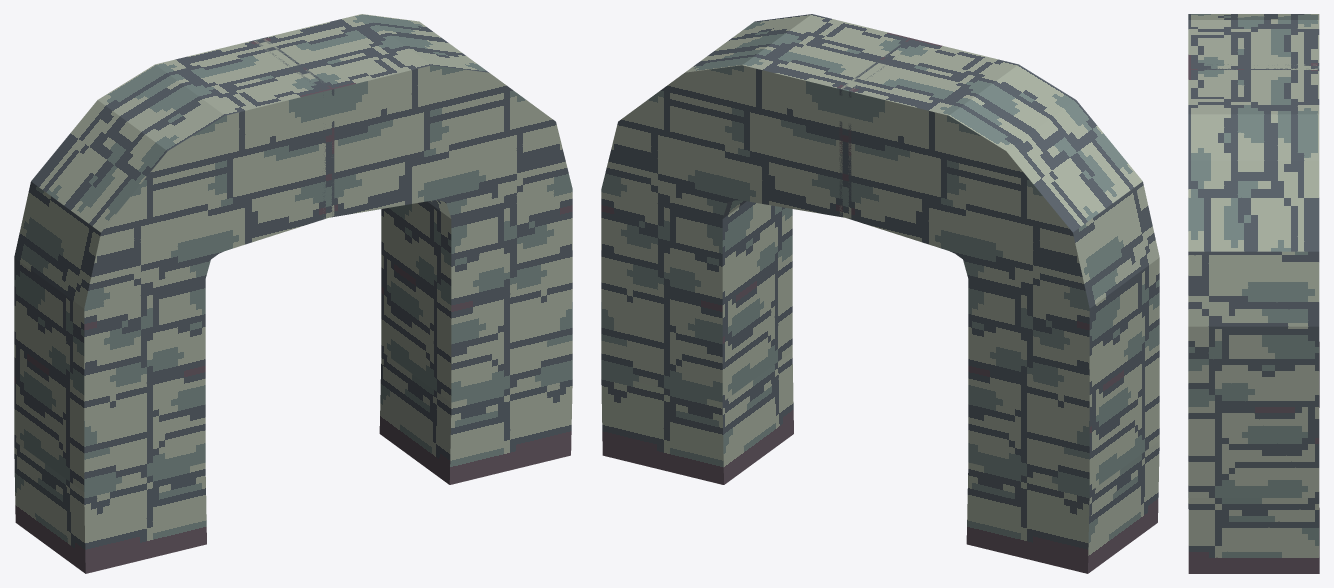
Rendered from door_frame2.glb.
3 views of the same model, side by side, from view 1: azimuth 30°, elevation 25°; view 2: azimuth 150°, elevation 25°; view 3: azimuth 270°, elevation 25° (orthographic). The views are drawn at different scales.
Visible parts, largest first — view 1: Cube.004; view 2: Cube.004; view 3: Cube.004.
Part boxes in pixels (bbox=[...]): Cube.004: bbox=[14, 14, 572, 573]; Cube.004: bbox=[601, 14, 1159, 573]; Cube.004: bbox=[1188, 14, 1319, 573].
Bounding box in the file's own units: 8.05 × 6.68 × 2.
Materials: 1 (1 with a texture image).
